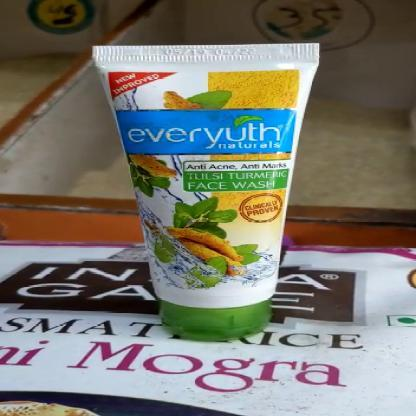EY AAAM TULSI TURMERIC FACEWASH50G: (111, 46, 296, 340)
